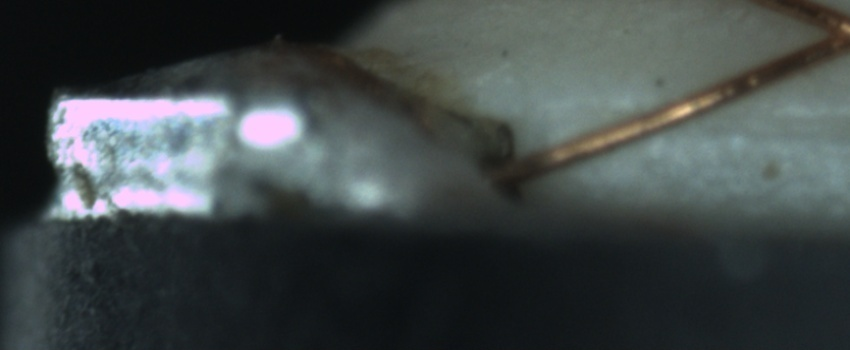CL: (797, 3, 850, 63)
DL: (615, 86, 849, 158)
